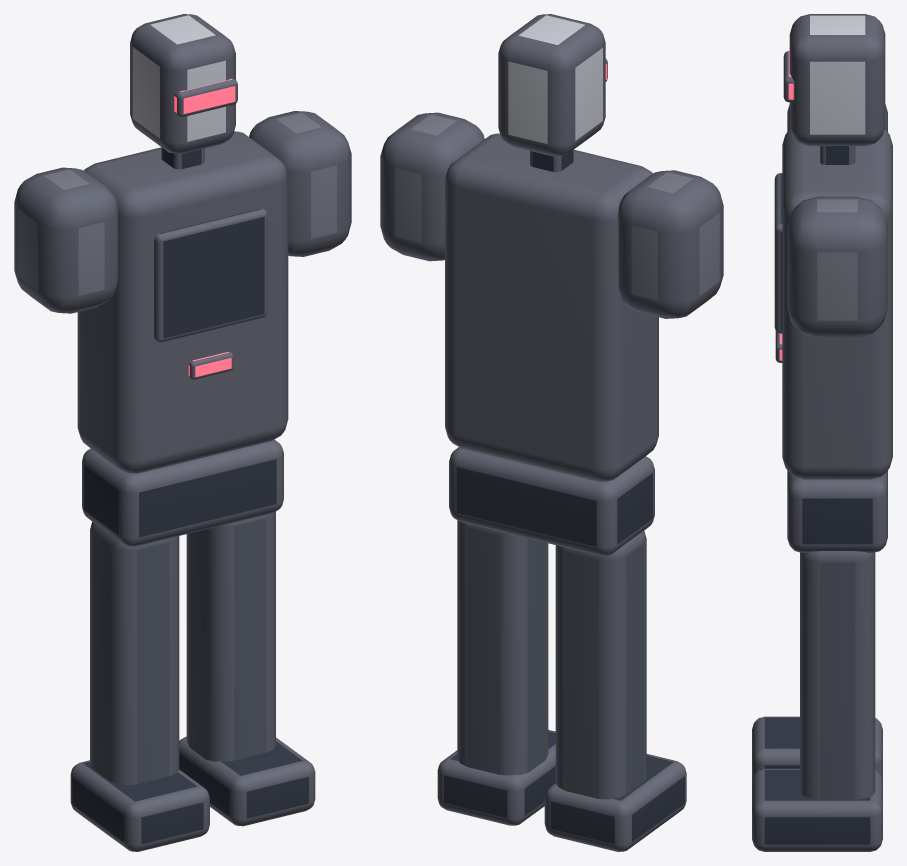
Rendered from bot.glb.
The picture shows the model from 3 angles, left to right: view 1: azimuth 30°, elevation 25°; view 2: azimuth 150°, elevation 25°; view 3: azimuth 270°, elevation 25°; orthographic projection.
Visible parts, largest first — view 1: bot_upper, bot_lower; view 2: bot_upper, bot_lower; view 3: bot_upper, bot_lower.
Boxes of the visible parts, x1,y1,x2,y2 form: bot_upper: (14, 14, 351, 473); bot_lower: (70, 439, 315, 851); bot_upper: (380, 14, 723, 481); bot_lower: (437, 447, 686, 851); bot_upper: (774, 14, 892, 479); bot_lower: (752, 470, 887, 851).
Bounding box in the file's own units: 0.72 × 1.72 × 0.28.
